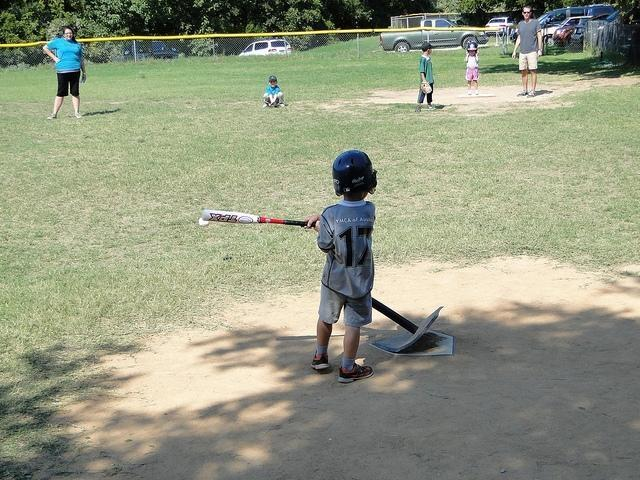car: (570, 8, 640, 42), (536, 5, 614, 28), (539, 17, 591, 46), (113, 40, 179, 61), (240, 40, 292, 56), (482, 18, 516, 36), (555, 22, 571, 46)
truck: (378, 18, 489, 52)
